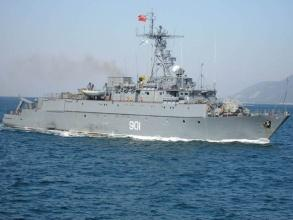warship: (2, 32, 289, 141)
